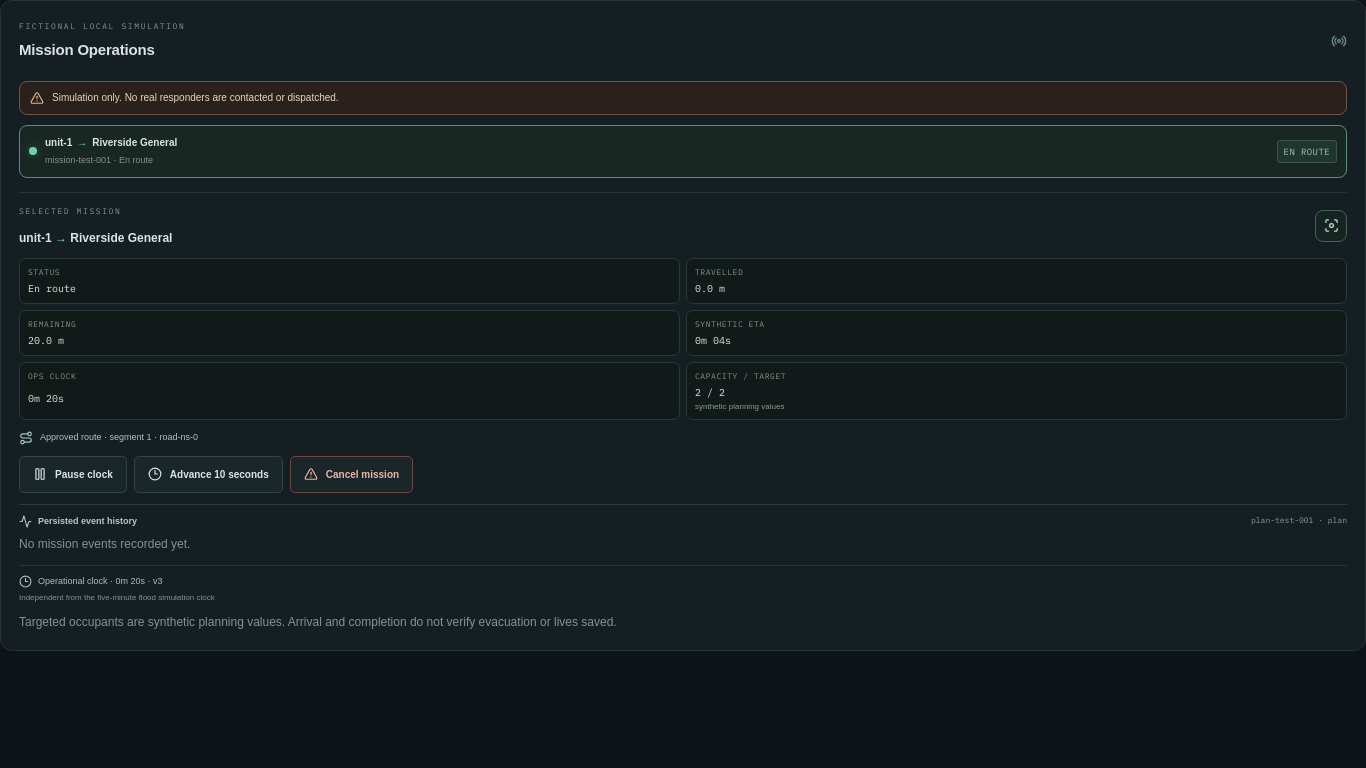
Test case: Mission Operations panel › keeps a newer acknowledged advance when an older polling response arrives afterward
Check: the text "0.0 m" is shown, box [695,282,725,294]
Click the button "Advance 10 seconds".
click(208, 474)  # box [134,456,283,492]
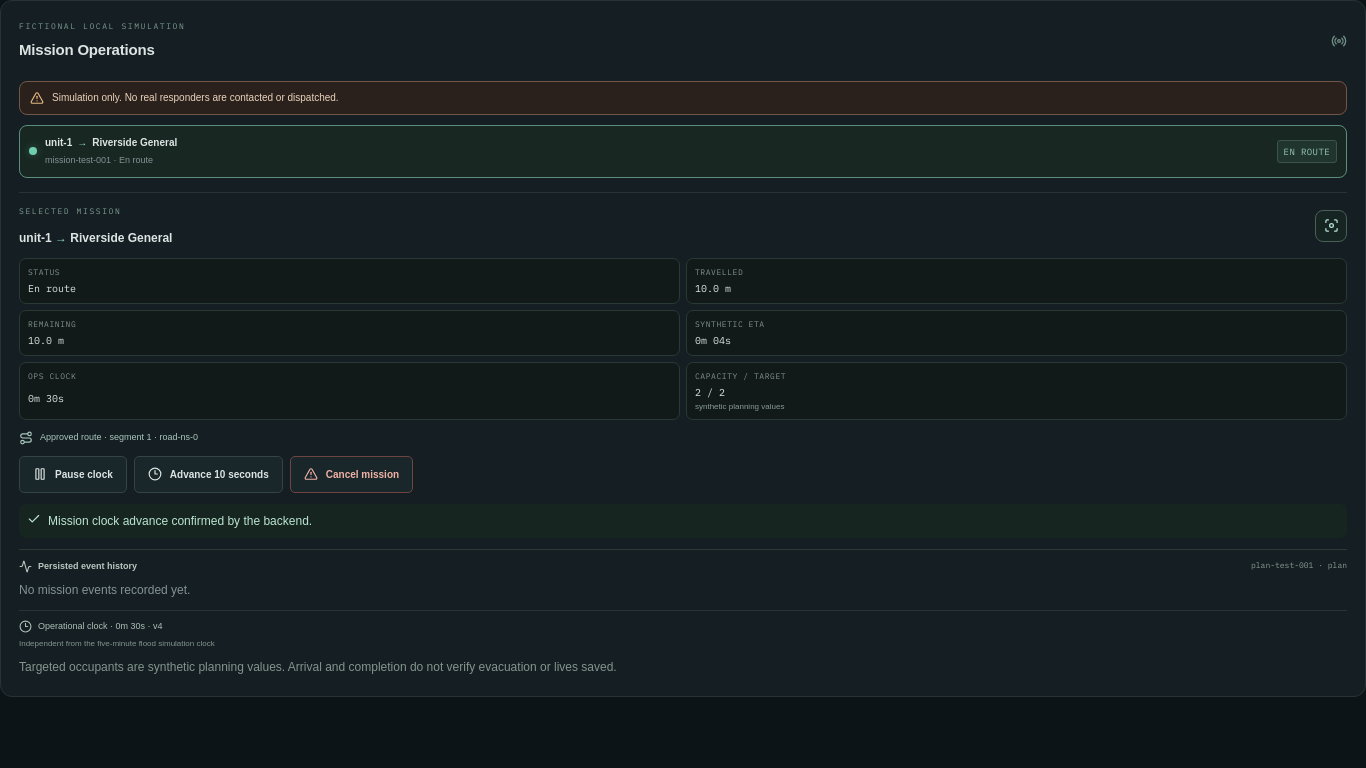
Check: the text "10.0 m" below "TRAVELLED" is shown, box [695,282,731,294]
Check: the text "0m 30s" is shown, box [28,392,64,404]
